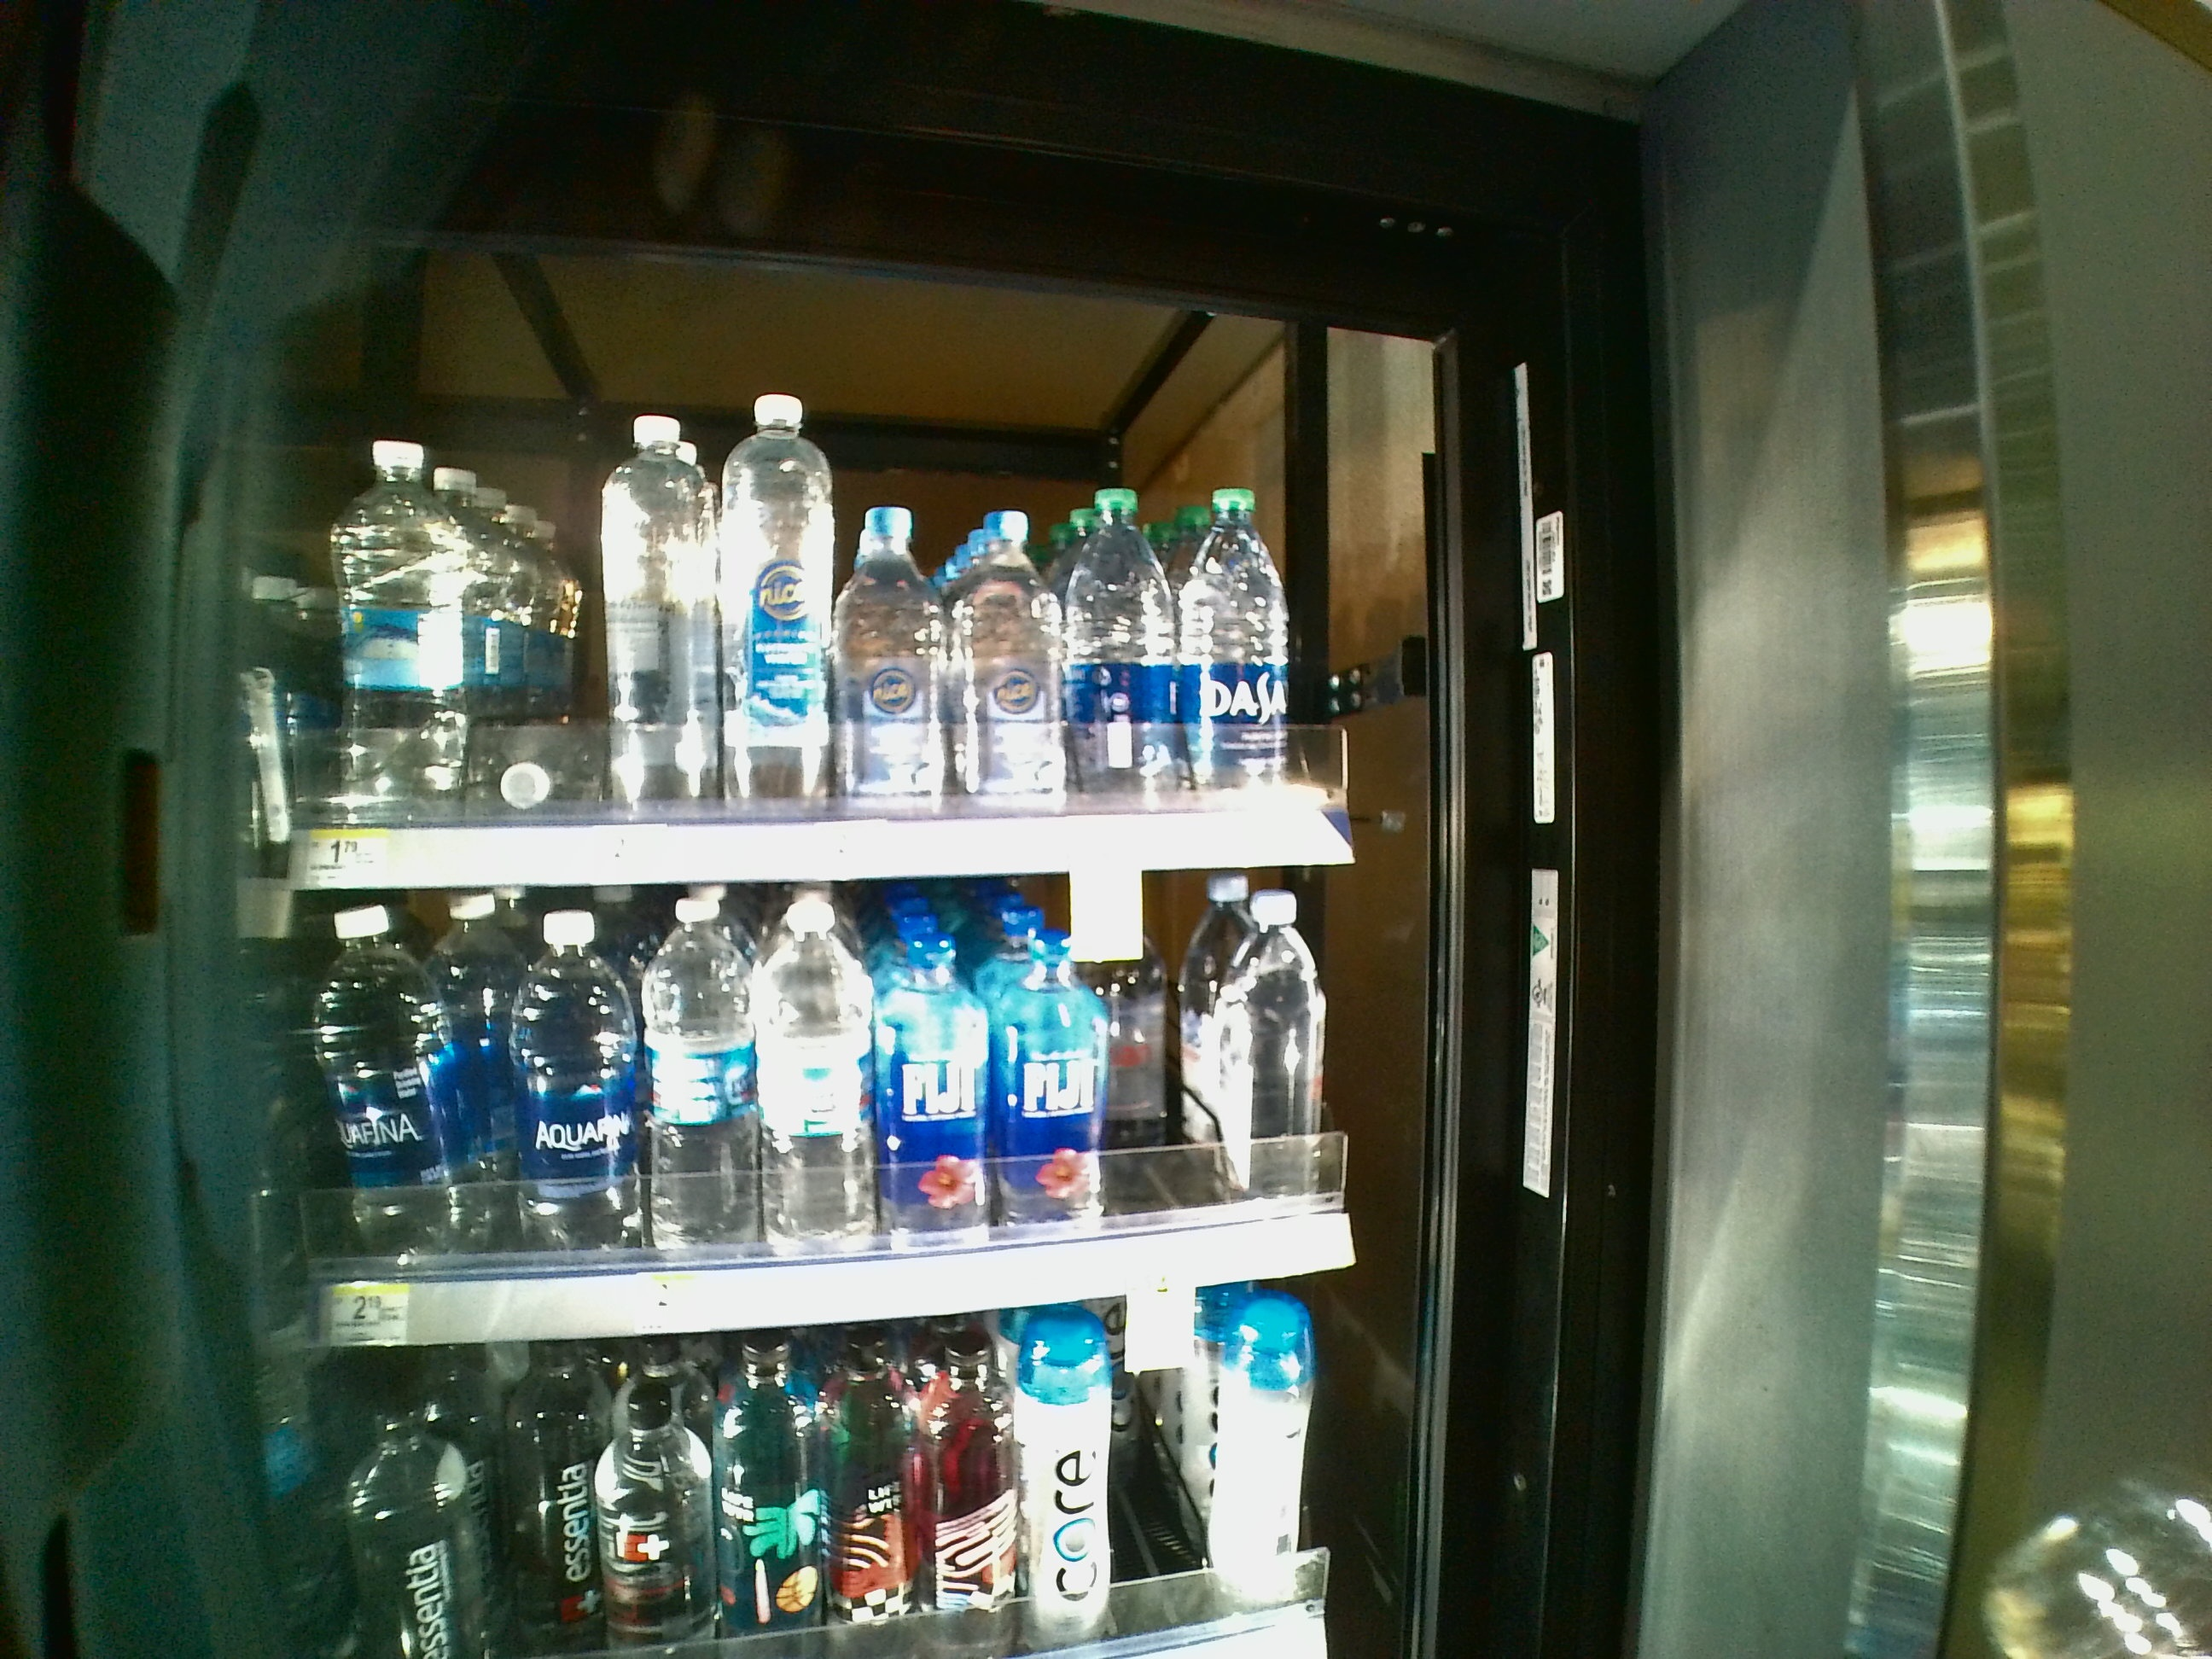shelf: (268, 315, 1505, 877), (268, 873, 1479, 1338)
